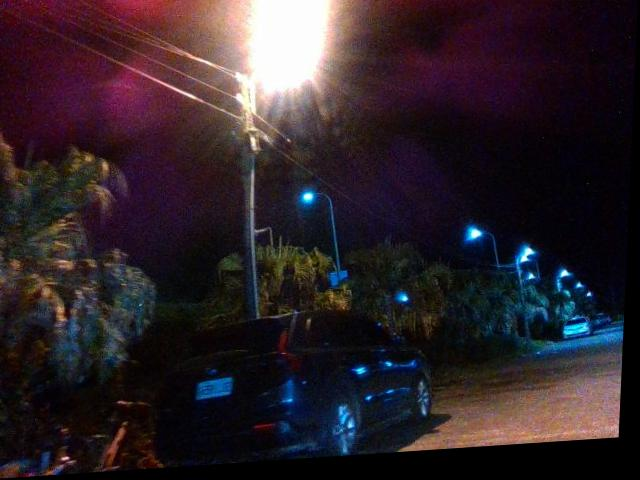pollute: (0, 403, 160, 478)
